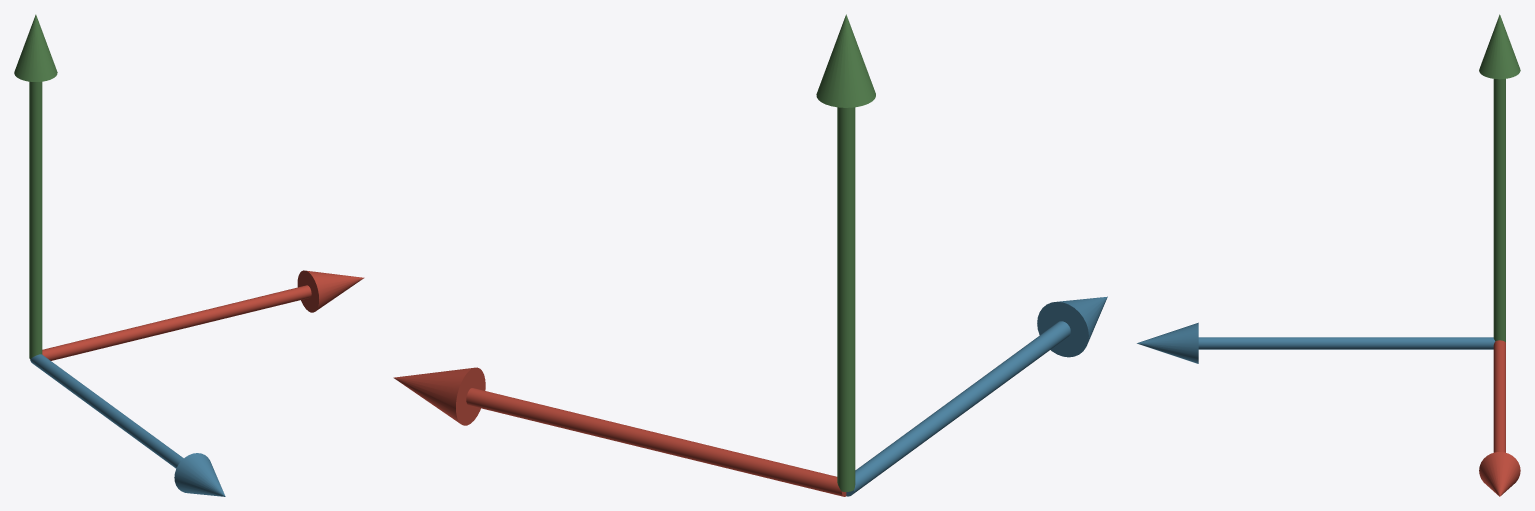
Rendered from wp-repere-a-trois-axes.glb.
The picture shows the model from 3 angles, left to right: view 1: azimuth 30°, elevation 25°; view 2: azimuth 150°, elevation 25°; view 3: azimuth 270°, elevation 25°; orthographic projection. The views are drawn at different scales.
Parts seen in each view (by area): view 1: wp-repere-a-trois-axes; view 2: wp-repere-a-trois-axes; view 3: wp-repere-a-trois-axes.
Boxes of the visible parts, box(x1,y1,x2,y2) form: wp-repere-a-trois-axes: box(14, 14, 364, 496); wp-repere-a-trois-axes: box(393, 14, 1107, 496); wp-repere-a-trois-axes: box(1137, 14, 1520, 496).
Size of the model in its own units: 0.7 by 0.7 by 0.7.
